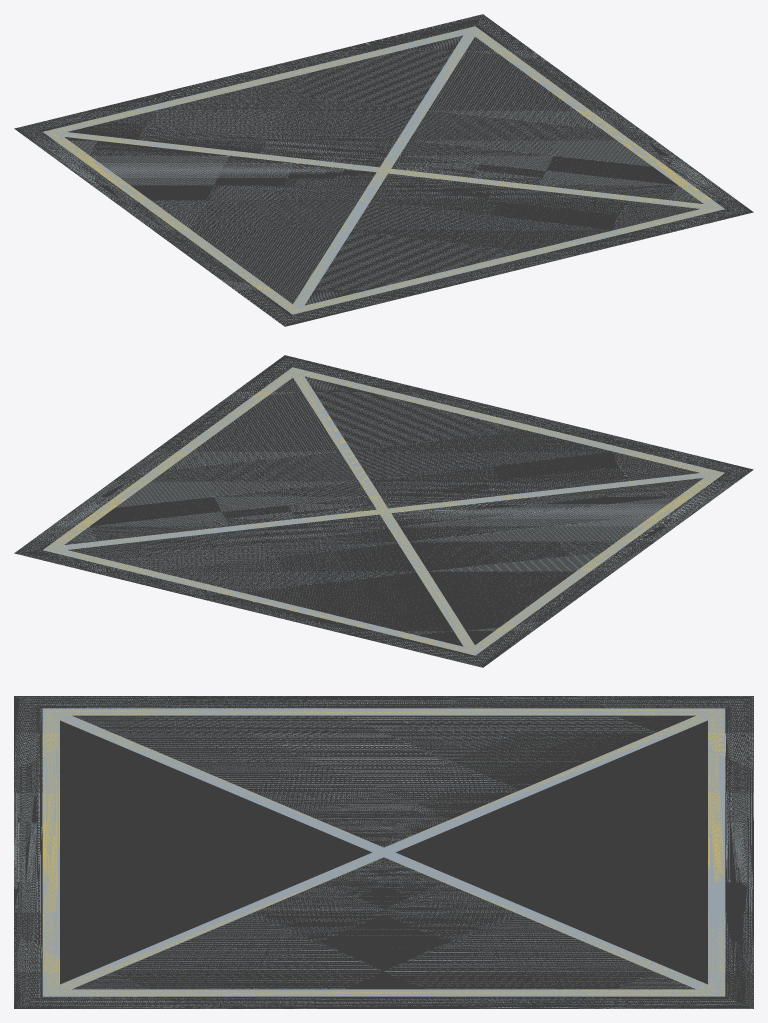
The model's file is intersection_3x3.fbx.
3 views of the same model, one above another, from view 1: azimuth 30°, elevation 25°; view 2: azimuth 150°, elevation 25°; view 3: azimuth 270°, elevation 25° (orthographic). The views are drawn at different scales.
Visible parts, largest first — view 1: Model; view 2: Model; view 3: Model.
Part boxes in pixels (left/top/right/bottom): Model: left=14, top=14, right=753, bottom=326; Model: left=14, top=355, right=753, bottom=667; Model: left=14, top=696, right=753, bottom=1008.
Bounding box in the file's own units: 12.9 × 0 × 12.9.
